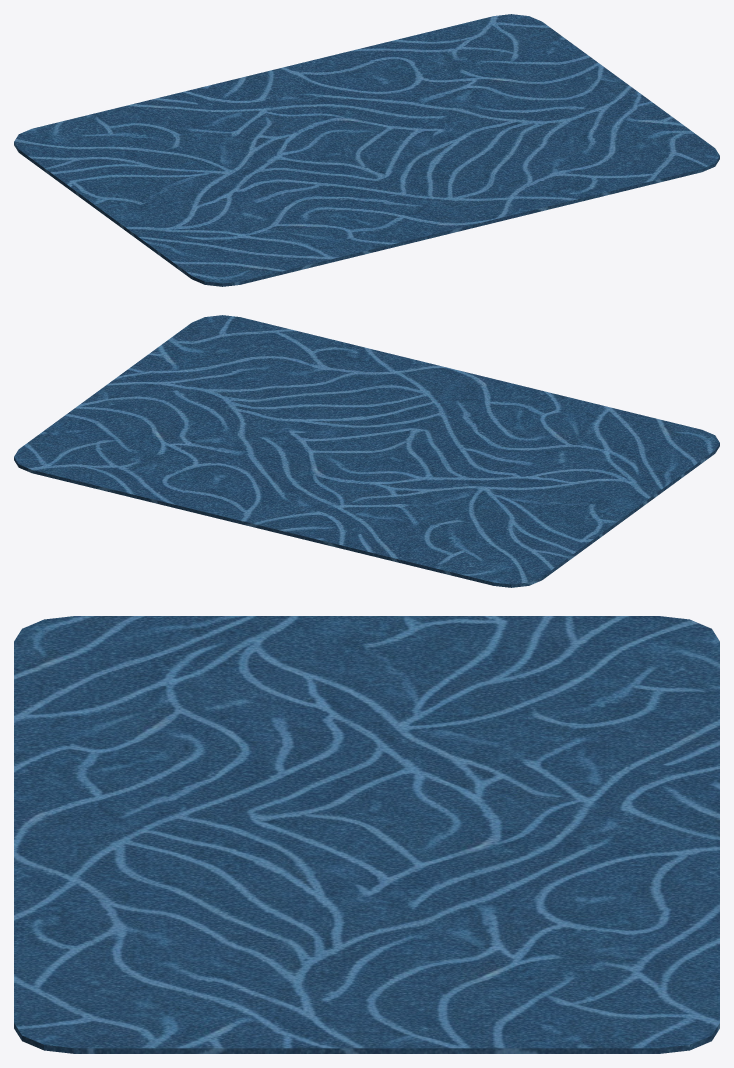
File: rug1.glb
The picture shows the model from 3 angles, top to bottom: view 1: azimuth 30°, elevation 25°; view 2: azimuth 150°, elevation 25°; view 3: azimuth 270°, elevation 25°; orthographic projection. The views are drawn at different scales.
Parts seen in each view (by area): view 1: rug; view 2: rug; view 3: rug.
Boxes of the visible parts, x1,y1,x2,y2 form: rug: (14, 14, 719, 286); rug: (14, 315, 719, 587); rug: (14, 616, 719, 1053).
Bounding box in the file's own units: 5.03 × 0.0309 × 3.47.
Materials: 1 (1 with a texture image).
